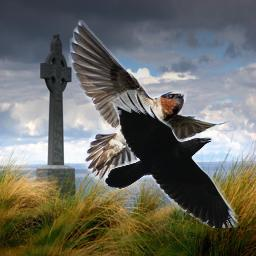Crow: (104, 89, 239, 228)
Swallow: (68, 20, 231, 186)
